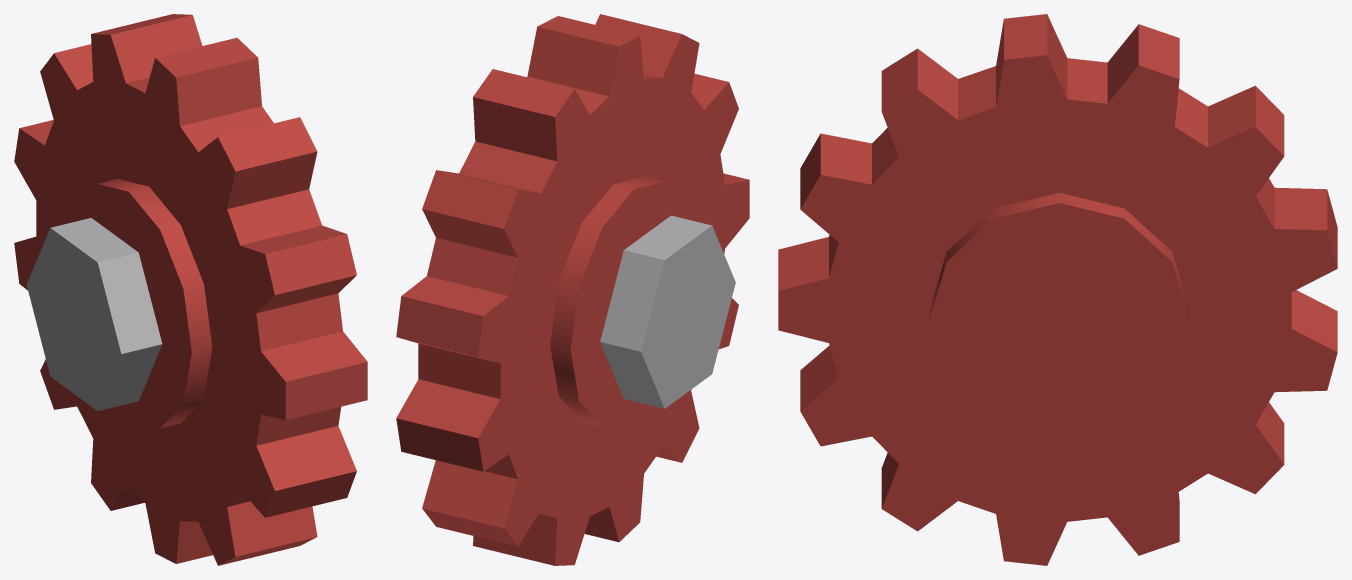
The model's file is front_13.glb.
3 views of the same model, side by side, from view 1: azimuth 30°, elevation 25°; view 2: azimuth 150°, elevation 25°; view 3: azimuth 270°, elevation 25° (orthographic). The views are drawn at different scales.
Parts seen in each view (by area): view 1: lod0; view 2: lod0; view 3: lod0.
Boxes of the visible parts, x1,y1,x2,y2 form: lod0: (14, 14, 367, 565); lod0: (396, 14, 749, 565); lod0: (778, 14, 1337, 565).
Size of what is drawn, in the model's own units: 0.026 by 0.0693 by 0.0688.
